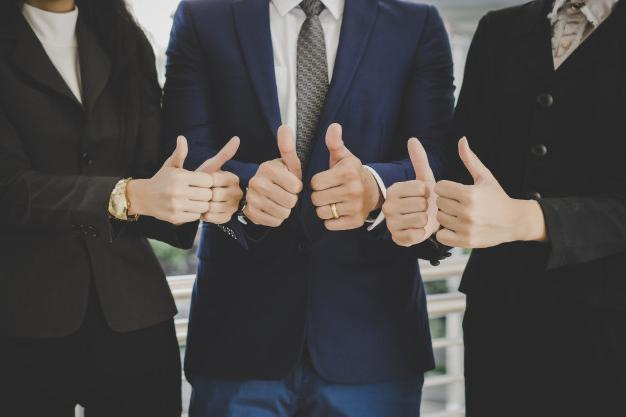thumbsup: (434, 136, 492, 248), (310, 123, 368, 230), (245, 124, 303, 227), (382, 135, 433, 245), (168, 135, 212, 223), (207, 135, 244, 225)
